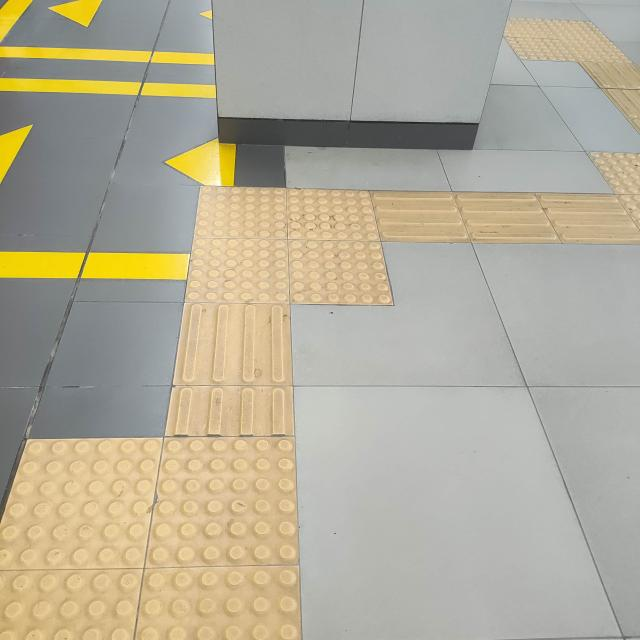kanan: (157, 133, 500, 342)
